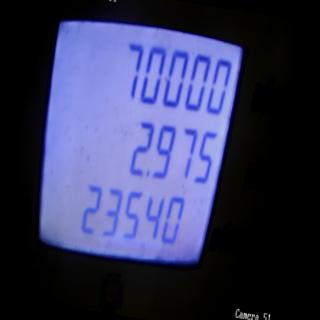screen: (12, 0, 256, 304)
